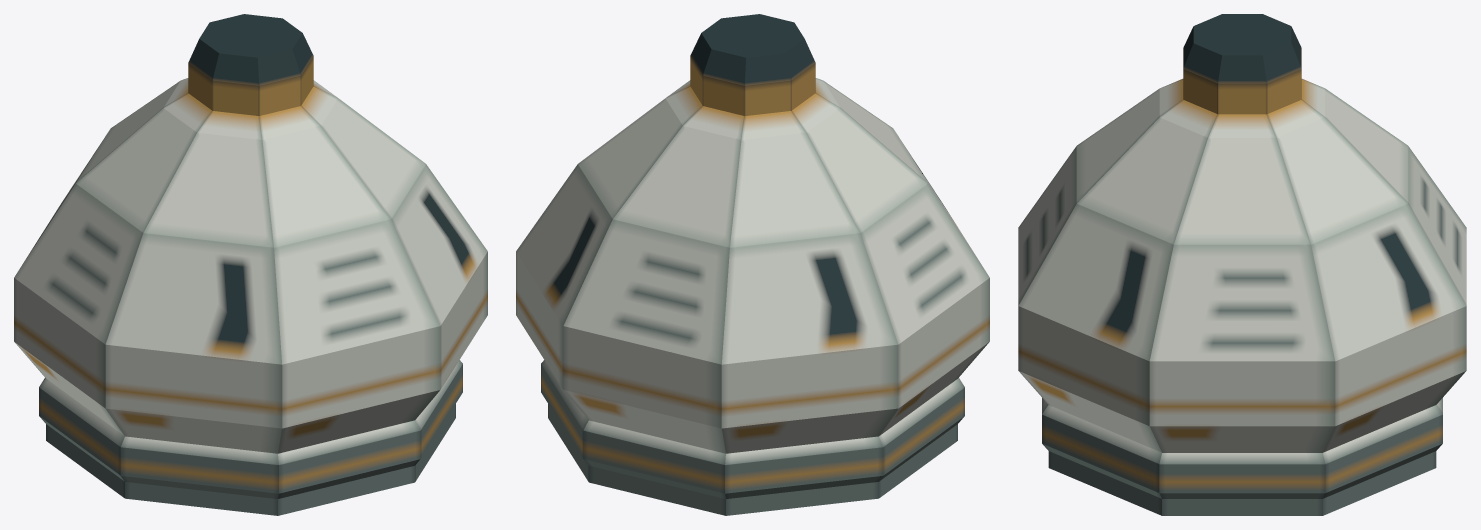
Rendered from rocket_cone_tier_3.obj.
3 renders of one model, left to right at view 1: azimuth 30°, elevation 25°; view 2: azimuth 150°, elevation 25°; view 3: azimuth 270°, elevation 25°, orthographic.
Parts seen in each view (by area): view 1: Cone; view 2: Cone; view 3: Cone.
Part boxes in pixels (x1,y1,x2,y2): Cone: (14,14,487,515); Cone: (516,14,989,515); Cone: (1018,14,1466,515).
Bounding box in the file's own units: 1.49 × 1.46 × 1.49.
